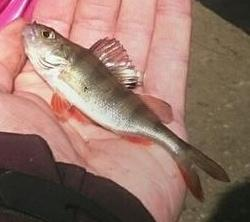Perch: (21, 20, 232, 203)
